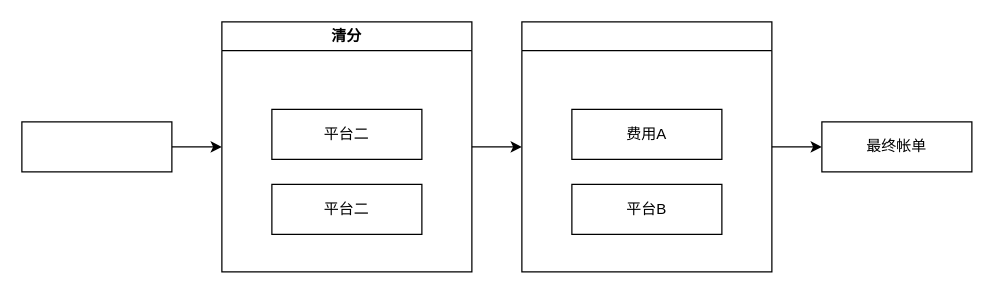
The diagram is 994 pixels wide and 294 high, and some of its shapes have lost their labels. The box of each missing label's shape, as (x1, y1, x2, y2) in pixels:
初始订单: (21, 121, 172, 172)
手续费: (521, 21, 772, 272)
